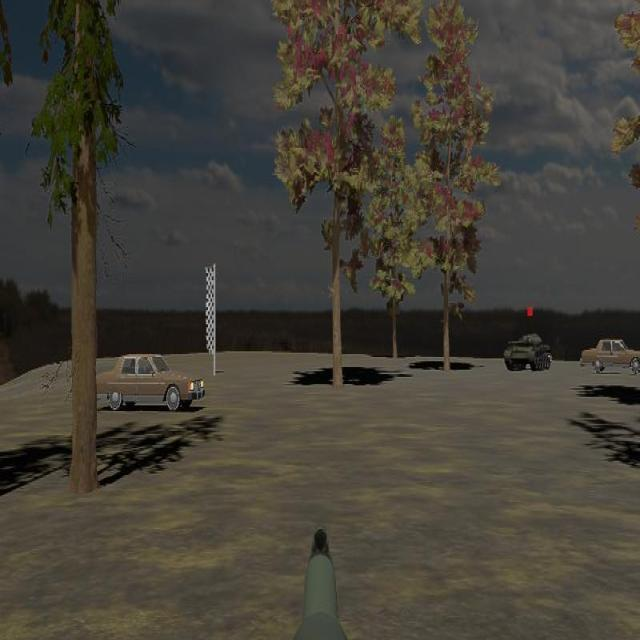Tank: (503, 331, 552, 373)
car: (92, 352, 206, 413), (580, 337, 640, 375)
